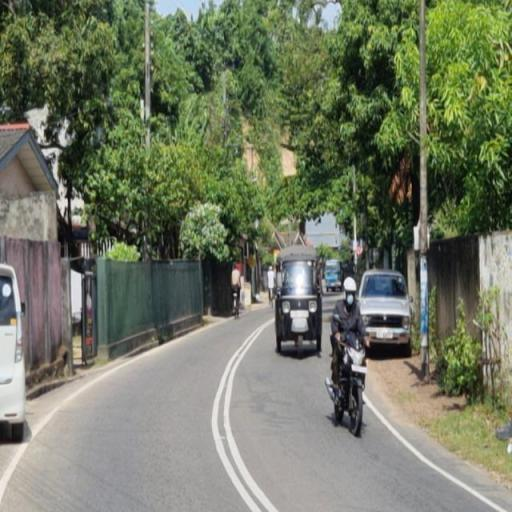double_white_line: (213, 316, 274, 511)
